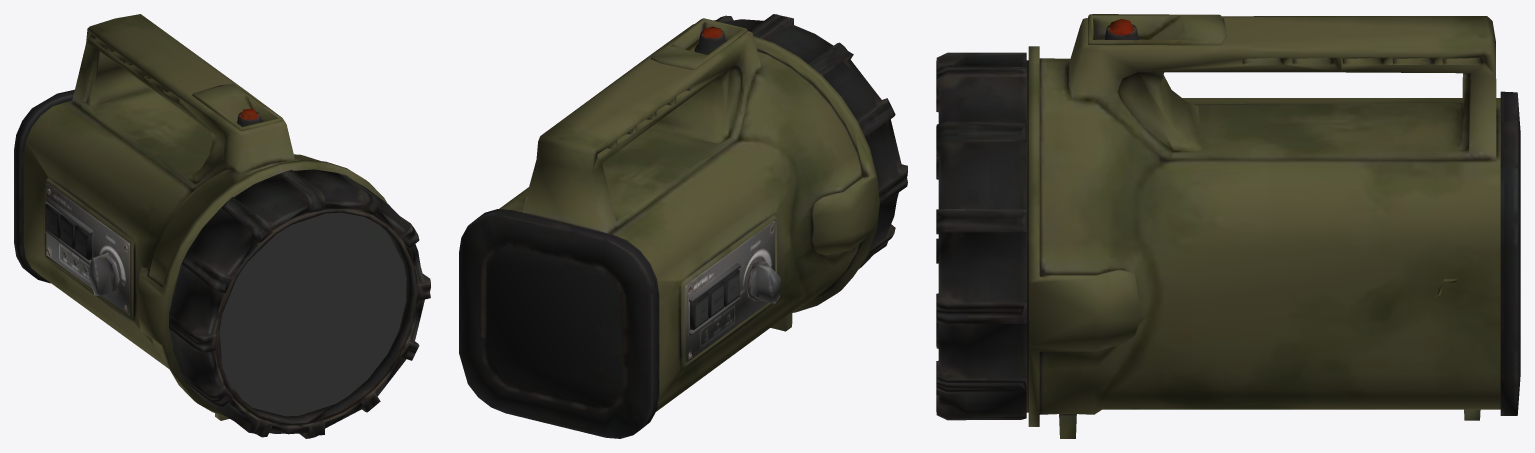
The model's file is scene-searchlight.glb.
3 renders of one model, left to right at view 1: azimuth 30°, elevation 25°; view 2: azimuth 150°, elevation 25°; view 3: azimuth 270°, elevation 25°, orthographic. The views are drawn at different scales.
Parts seen in each view (by area): view 1: portable_searchlight; view 2: portable_searchlight; view 3: portable_searchlight.
Part boxes in pixels (x1,y1,x2,y2): portable_searchlight: (14, 14, 430, 438); portable_searchlight: (459, 14, 907, 438); portable_searchlight: (936, 14, 1520, 438).
Bounding box in the file's own units: 0.1653 × 0.1849 × 0.2534.
2 materials, 2 textured.
